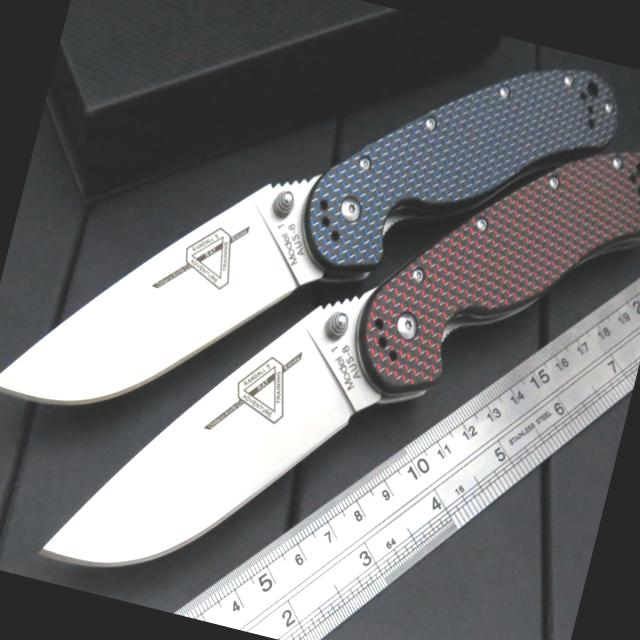knife: (28, 256, 381, 626), (0, 94, 352, 465)
